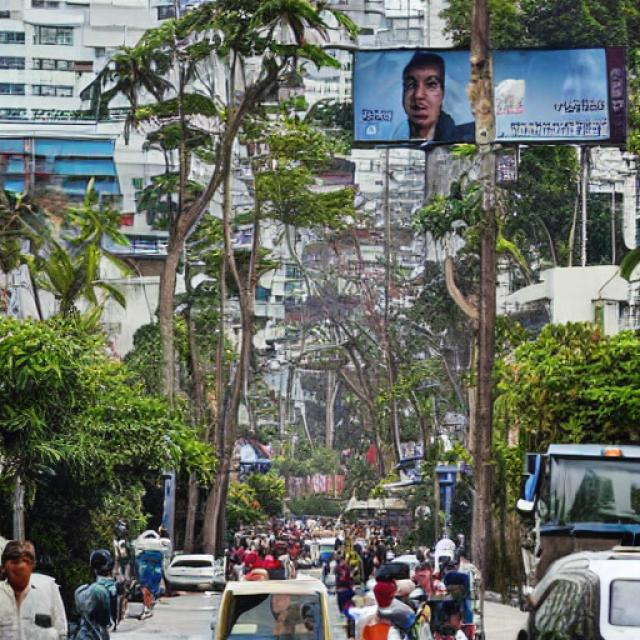Billboard: (346, 42, 617, 152)
